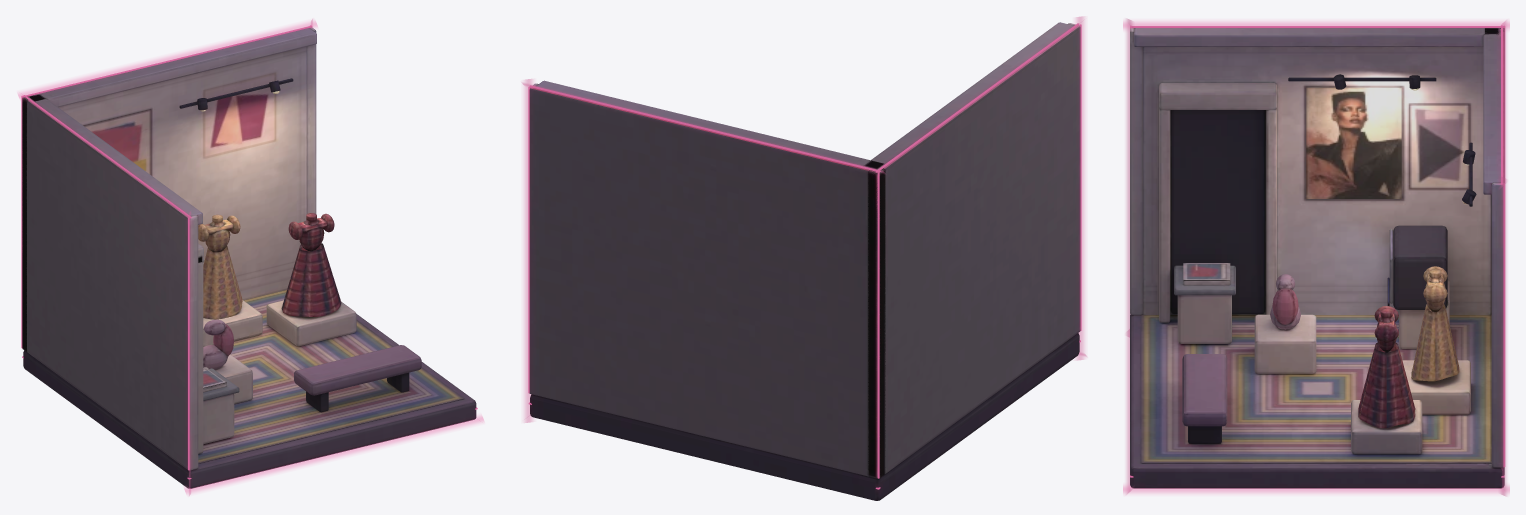
File: tate-britain.glb
The picture shows the model from 3 angles, left to right: view 1: azimuth 30°, elevation 25°; view 2: azimuth 150°, elevation 25°; view 3: azimuth 270°, elevation 25°; orthographic projection. The views are drawn at different scales.
Parts seen in each view (by area): view 1: Tate Britain • The 90s • baked interior, Feathered silhouette glow 2, Feathered silhouette glow 5, Back upper luminous rim; view 2: Tate Britain • The 90s • baked interior, Feathered silhouette glow 4, Feathered silhouette glow 1, Back upper luminous rim, Wall luminous edge.001, Feathered silhouette glow 5, Left upper luminous rim; view 3: Tate Britain • The 90s • baked interior, Feathered silhouette glow 3, Feathered silhouette glow 0, Feathered silhouette glow 4, Feathered silhouette glow 1, Wall luminous edge.002, Left upper luminous rim, Feathered silhouette glow 5, Feathered silhouette glow 2.
Part boxes in pixels (<box>): Tate Britain • The 90s • baked interior: <box>22,27,476,488</box>; Feathered silhouette glow 2: <box>184,415,484,494</box>; Feathered silhouette glow 5: <box>17,20,317,99</box>; Back upper luminous rim: <box>23,25,312,97</box>; Tate Britain • The 90s • baked interior: <box>529,22,1080,500</box>; Feathered silhouette glow 4: <box>524,79,533,422</box>; Feathered silhouette glow 1: <box>1075,16,1084,360</box>; Back upper luminous rim: <box>529,85,880,172</box>; Wall luminous edge.001: <box>877,172,879,478</box>; Feathered silhouette glow 5: <box>522,82,885,173</box>; Left upper luminous rim: <box>875,23,1079,172</box>; Tate Britain • The 90s • baked interior: <box>1130,28,1504,488</box>; Feathered silhouette glow 3: <box>1123,485,1509,493</box>; Feathered silhouette glow 0: <box>1123,21,1509,29</box>; Feathered silhouette glow 4: <box>1500,176,1506,495</box>; Feathered silhouette glow 1: <box>1126,18,1132,336</box>; Wall luminous edge.002: <box>1503,183,1505,467</box>; Left upper luminous rim: <box>1130,26,1504,27</box>; Feathered silhouette glow 5: <box>1500,20,1506,187</box>; Feathered silhouette glow 2: <box>1126,329,1132,494</box>.
Bounding box in the file's own units: 2.09 × 1.89 × 2.09.
Materials: 3 (2 with a texture image).
